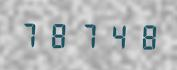eight: (130, 20, 157, 51), (46, 19, 73, 49)
four: (102, 20, 129, 50)
seven: (18, 18, 45, 49), (74, 19, 101, 50)
